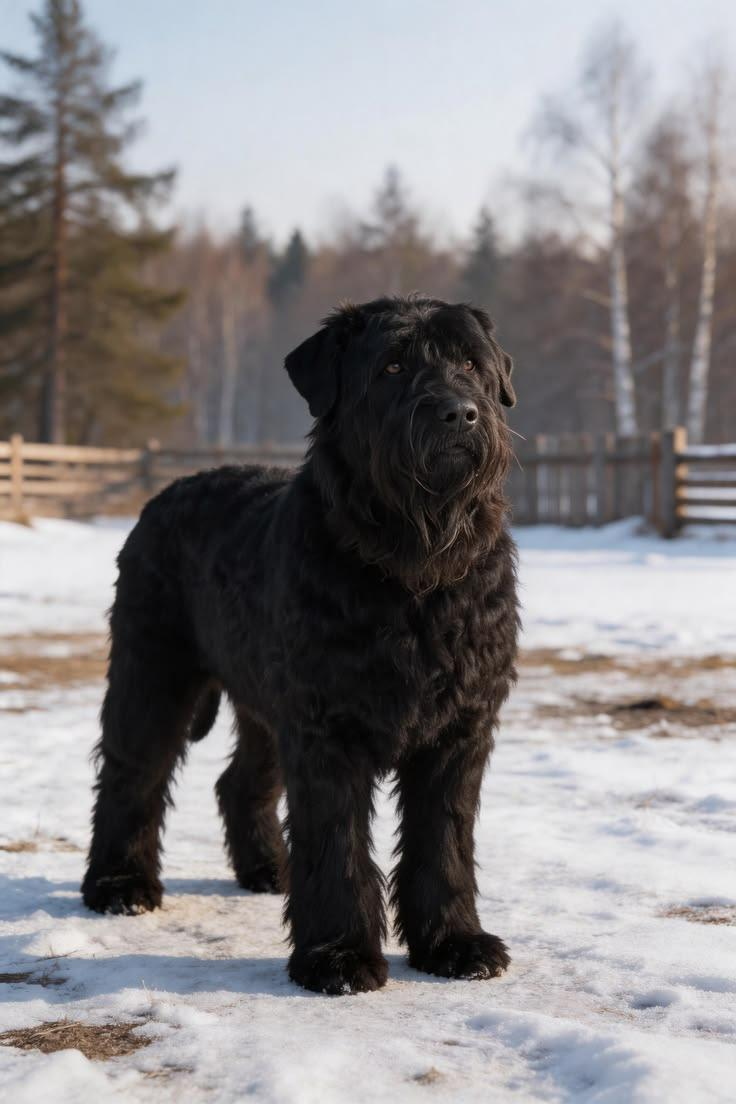dog: (82, 298, 517, 992)
